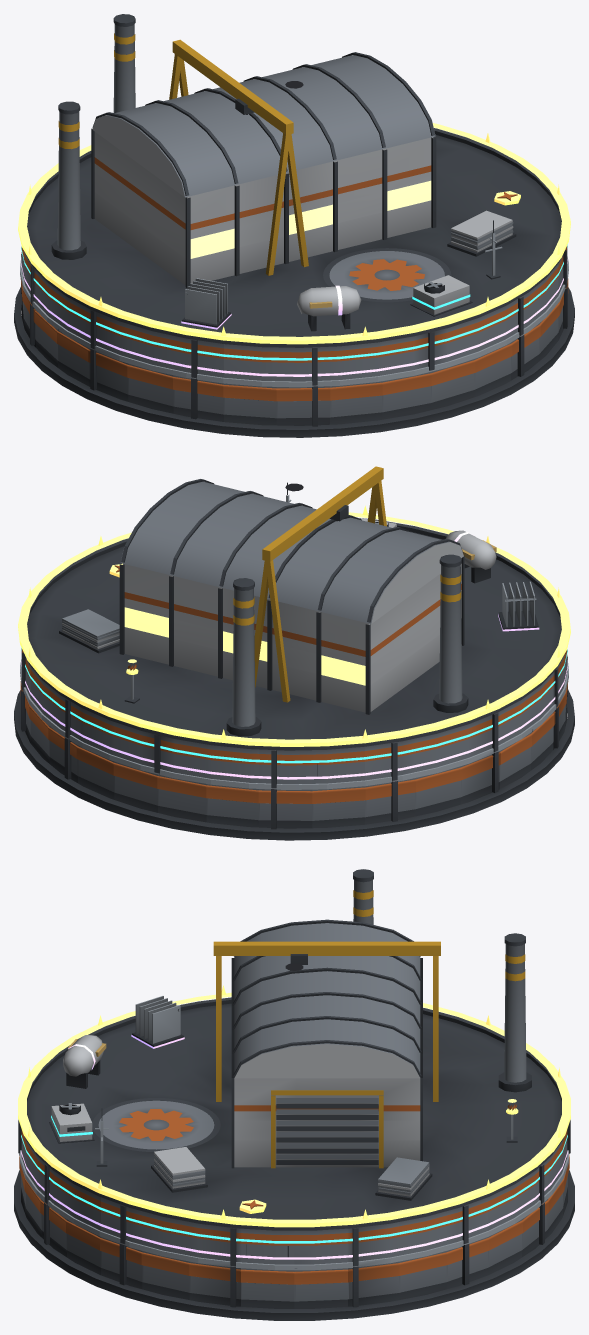
The model's file is fabricator_m_far.glb.
3 renders of one model, top to bottom at view 1: azimuth 30°, elevation 25°; view 2: azimuth 150°, elevation 25°; view 3: azimuth 270°, elevation 25°, orthographic.
Visible parts, largest first — view 1: Roof, Base, L5, L4, L2, L3; view 2: Roof, Base, L5, L4, L2, L3; view 3: Roof, Base, L5, L4, L2, L3.
Boxes of the visible parts, x1,y1,x2,y2 form: Roof: (21,14,567,385); Base: (14,254,574,437); L5: (18,123,570,344); L4: (21,259,567,376); L2: (20,220,568,387); L3: (21,244,567,360); Roof: (21,466,567,788); Base: (14,656,574,840); L5: (18,505,570,746); L4: (21,530,567,779); L2: (20,482,568,789); L3: (21,518,567,763); Roof: (18,869,570,1266); Base: (14,1153,574,1320); L5: (18,985,570,1227); L4: (21,996,567,1259); L2: (20,1108,568,1270); L3: (21,1103,567,1243).
Size of the model in its own units: 16.26 by 7.57 by 16.26.
